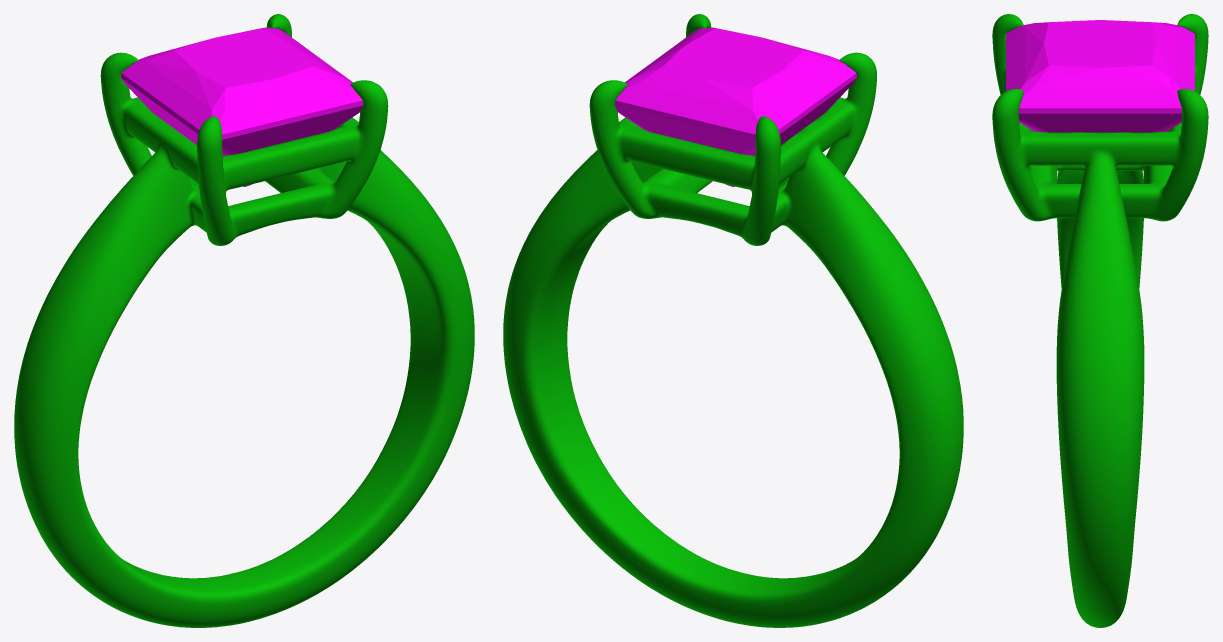
The model's file is BE1293_PR_200ct_RENDER.glb.
3 views of the same model, side by side, from view 1: azimuth 30°, elevation 25°; view 2: azimuth 150°, elevation 25°; view 3: azimuth 270°, elevation 25° (orthographic).
Visible parts, largest first — view 1: Metal 01, CS_Diamond_Princess; view 2: Metal 01, CS_Diamond_Princess; view 3: Metal 01, CS_Diamond_Princess.
Boxes of the visible parts, x1,y1,x2,y2 form: Metal 01: (14,14,474,627); CS_Diamond_Princess: (121,27,362,186); Metal 01: (503,14,963,627); CS_Diamond_Princess: (615,27,856,186); Metal 01: (992,14,1208,627); CS_Diamond_Princess: (1006,20,1194,132).
Size of the model in its own units: 20.47 by 24.53 by 8.58.
